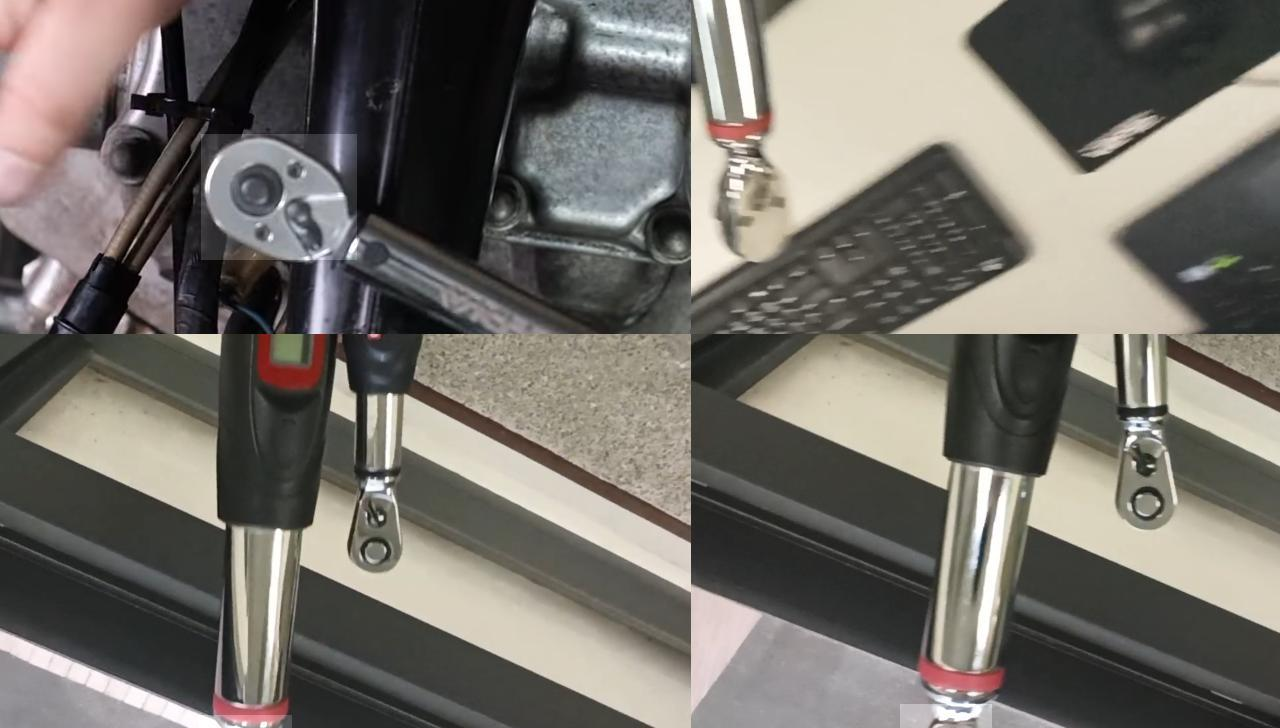Tool: (200, 133, 356, 259), (1112, 416, 1178, 530), (346, 478, 406, 572)
